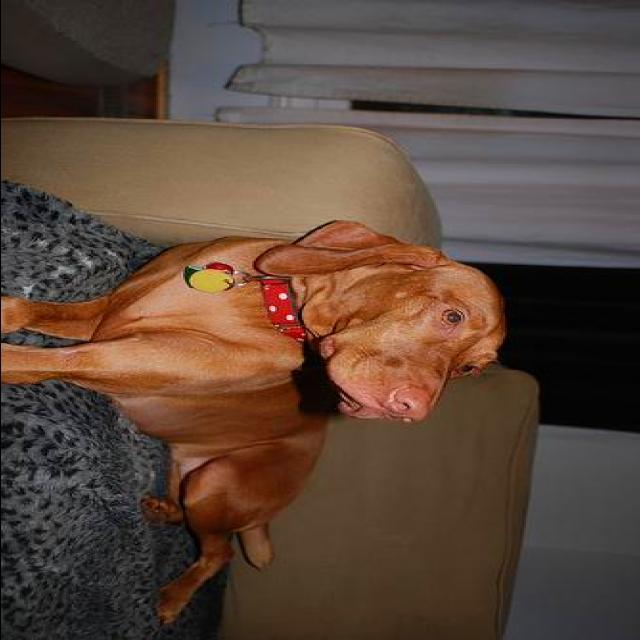vizsla: (1, 222, 514, 630)
